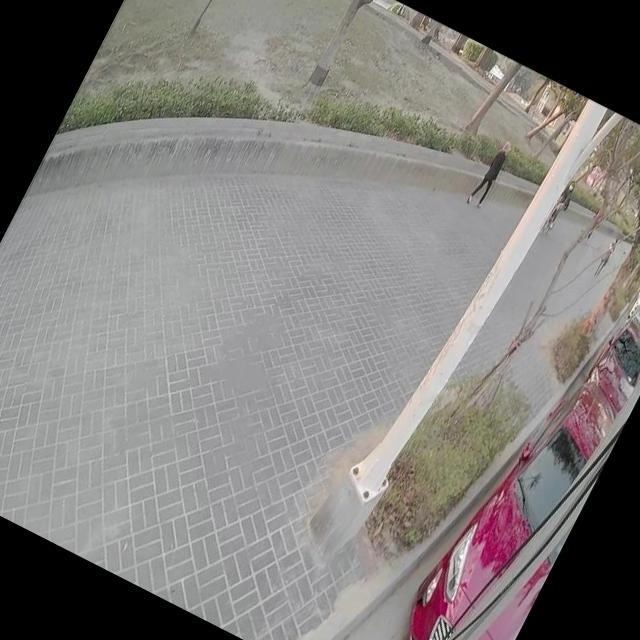person: (464, 138, 514, 210), (592, 236, 620, 278), (554, 178, 578, 214)
